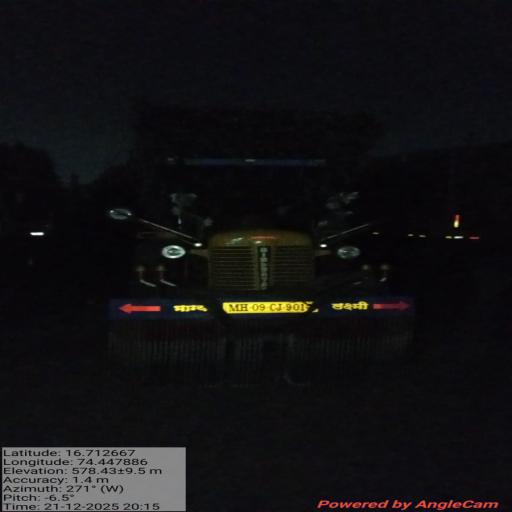number_plate: (220, 302, 321, 316)
